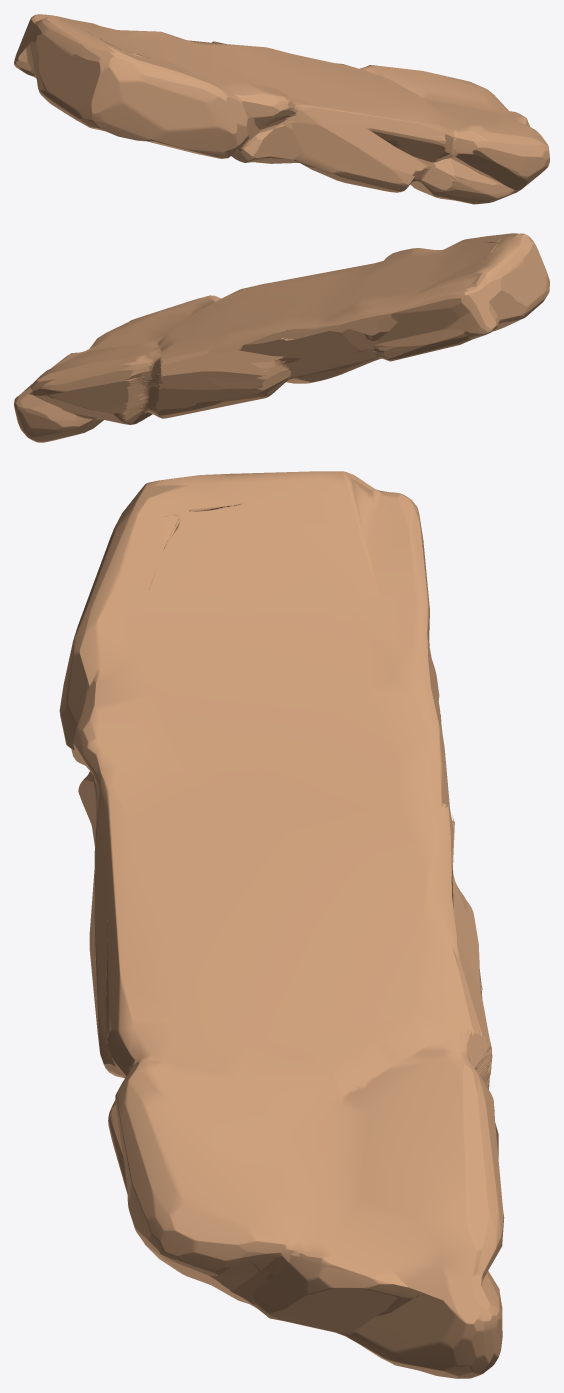
3 views of the same model, one above another, from view 1: azimuth 30°, elevation 25°; view 2: azimuth 150°, elevation 25°; view 3: azimuth 270°, elevation 25° (orthographic). The views are drawn at different scales.
Visible parts, largest first — view 1: Mesh_122_LOD0; view 2: Mesh_122_LOD0; view 3: Mesh_122_LOD0.
Boxes of the visible parts, box(x1,y1,x2,y2) form: Mesh_122_LOD0: box(14, 14, 549, 204); Mesh_122_LOD0: box(14, 233, 549, 442); Mesh_122_LOD0: box(59, 471, 504, 1378).
Size of what is drawn, in the model's own units: 2994 by 1543 by 1248.
